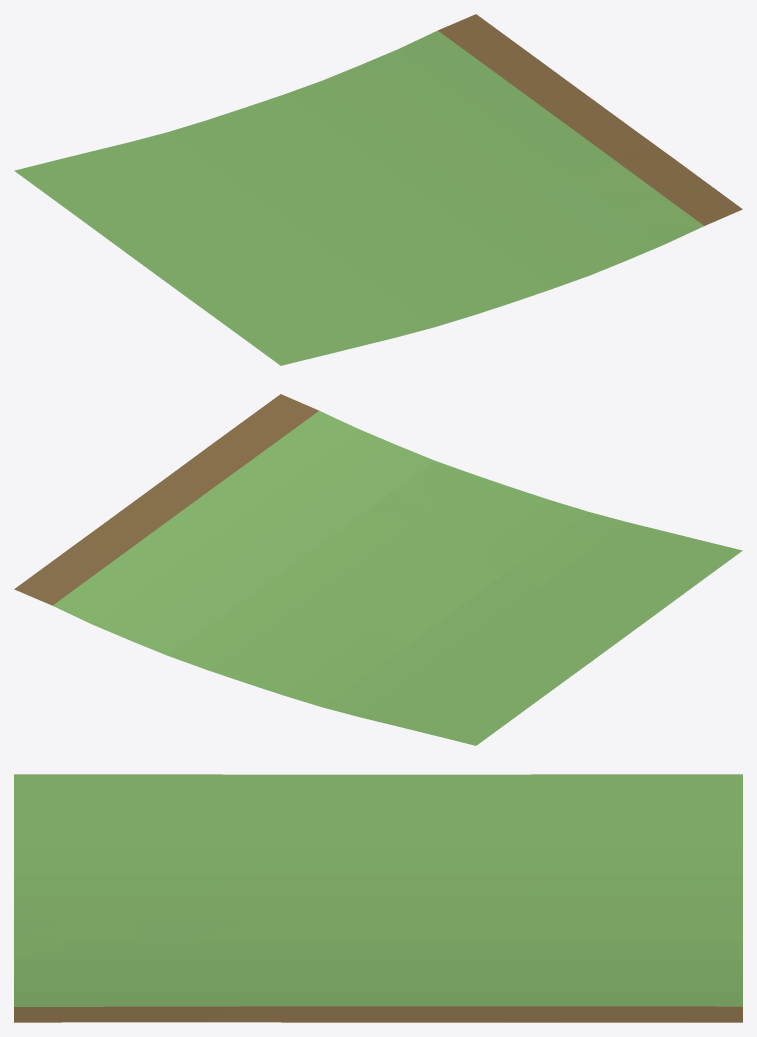
Rendered from chunk_-1_-2.obj.
3 renders of one model, top to bottom at view 1: azimuth 30°, elevation 25°; view 2: azimuth 150°, elevation 25°; view 3: azimuth 270°, elevation 25°, orthographic. The views are drawn at different scales.
Visible parts, largest first — view 1: grass_b, dirt; view 2: grass_b, dirt; view 3: grass_b, dirt.
Part boxes in pixels (x1,y1,x2,y2): grass_b: (14, 30, 703, 365); dirt: (438, 14, 742, 225); grass_b: (53, 411, 742, 745); dirt: (14, 394, 318, 605); grass_b: (14, 774, 742, 1006); dirt: (14, 1006, 742, 1022).
Size of the model in its own units: 16 by 1.46 by 16.
